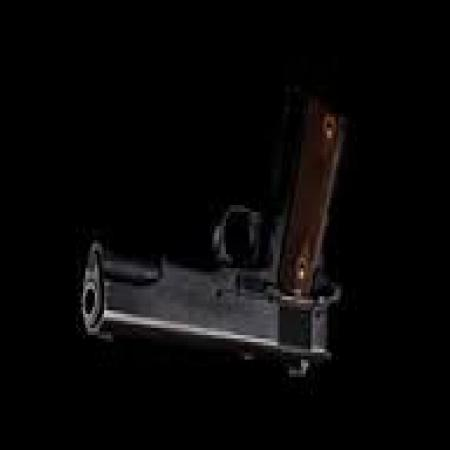Pistol: (78, 91, 342, 379)
